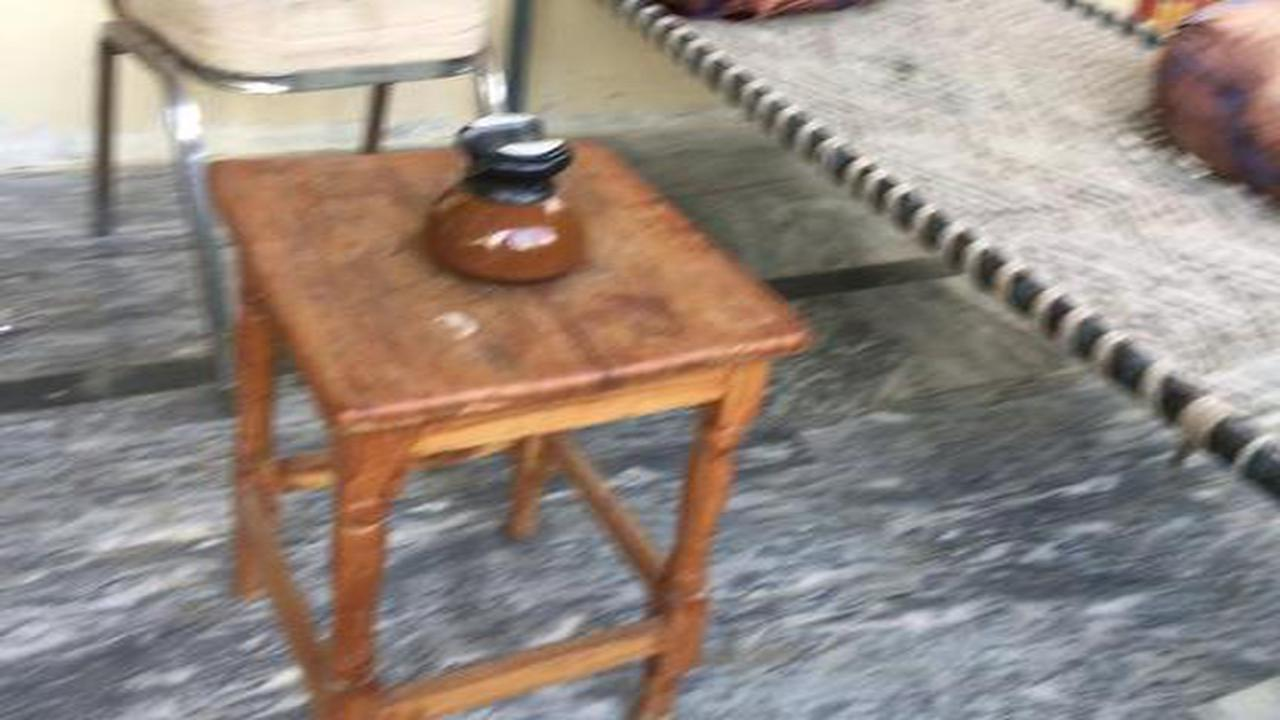insulator_pin: (404, 94, 607, 295)
